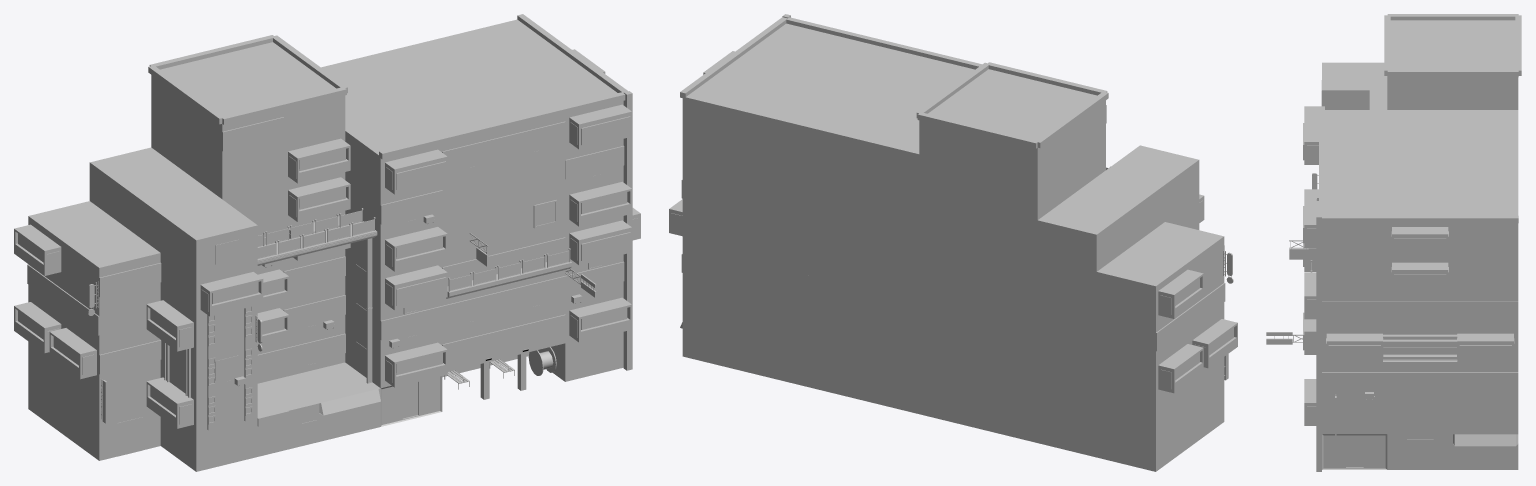
File: House_13_United_Homes.fbx
The picture shows the model from 3 angles, left to right: view 1: azimuth 30°, elevation 25°; view 2: azimuth 150°, elevation 25°; view 3: azimuth 270°, elevation 25°; orthographic projection. The views are drawn at different scales.
Visible parts, largest first — view 1: House_13_United_Homes; view 2: House_13_United_Homes; view 3: House_13_United_Homes.
Part boxes in pixels (left/top/right/bottom): House_13_United_Homes: left=14, top=14, right=640, bottom=471; House_13_United_Homes: left=669, top=14, right=1237, bottom=471; House_13_United_Homes: left=1266, top=14, right=1521, bottom=471.
Size of what is drawn, in the model's own units: 4280 by 2438 by 1948.
